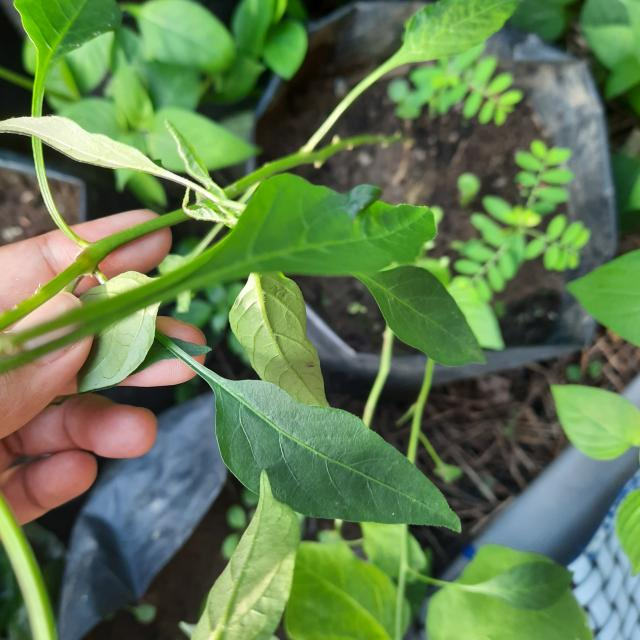sehat: (197, 383, 464, 545), (362, 259, 509, 383)
